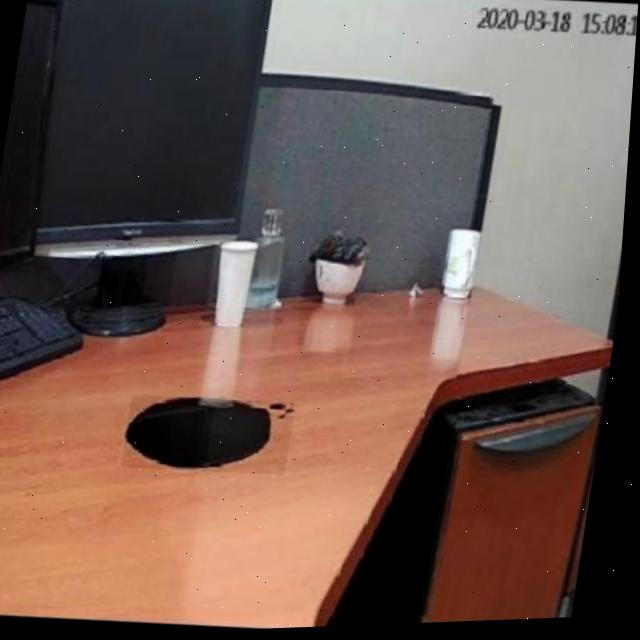spillage: (131, 400, 300, 473)
